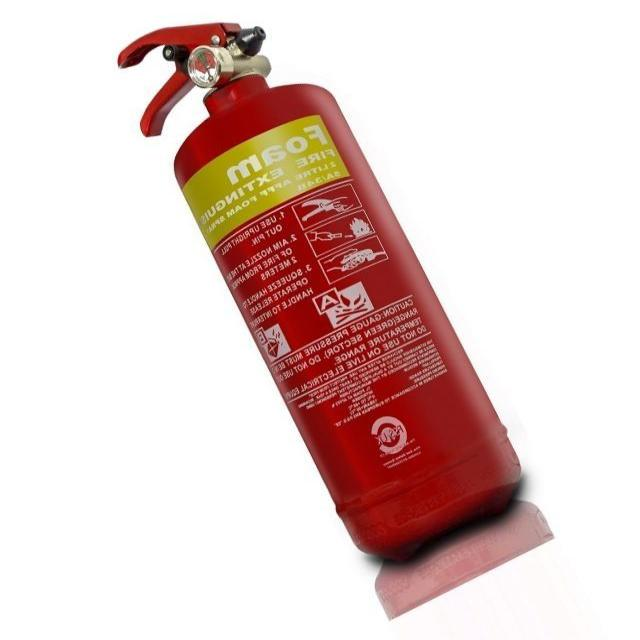fire_extinguisher: (113, 19, 528, 566)
